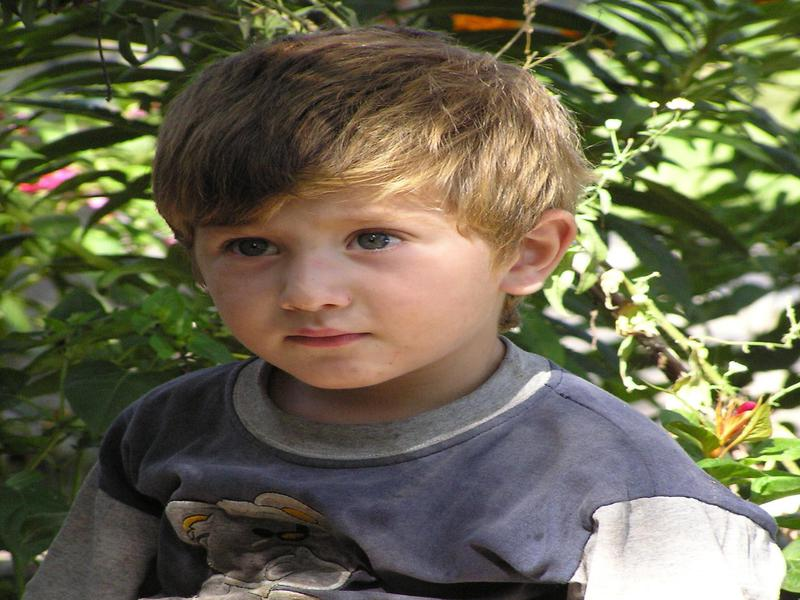person: (29, 24, 787, 600)
